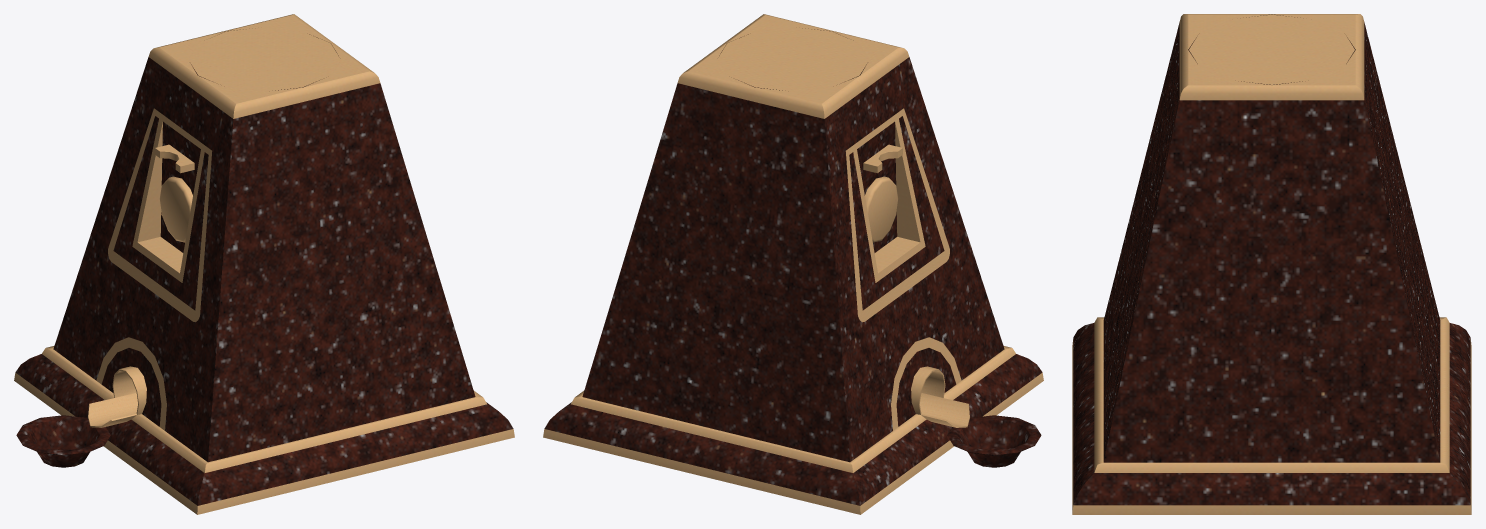
File: ball_machine.fbx
3 renders of one model, left to right at view 1: azimuth 30°, elevation 25°; view 2: azimuth 150°, elevation 25°; view 3: azimuth 270°, elevation 25°, orthographic. The views are drawn at different scales.
Visible parts, largest first — view 1: ball_machine; view 2: ball_machine; view 3: ball_machine.
Boxes of the visible parts, x1,y1,x2,y2 form: ball_machine: (14,14,514,514); ball_machine: (543,14,1043,514); ball_machine: (1072,14,1471,514).
Bounding box in the file's own units: 60.23 × 50.26 × 47.76.
